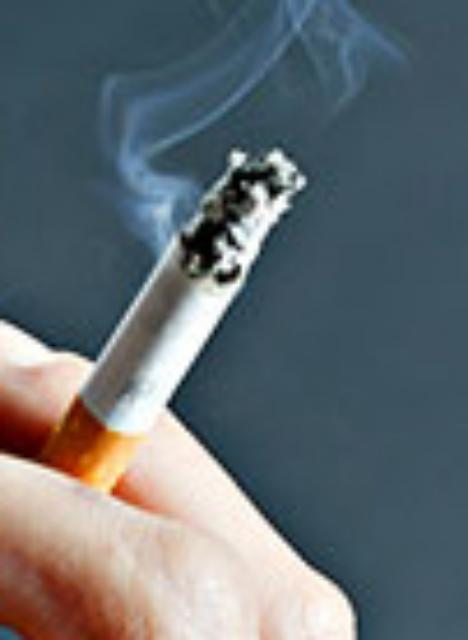Smoking: (0, 143, 306, 597)
